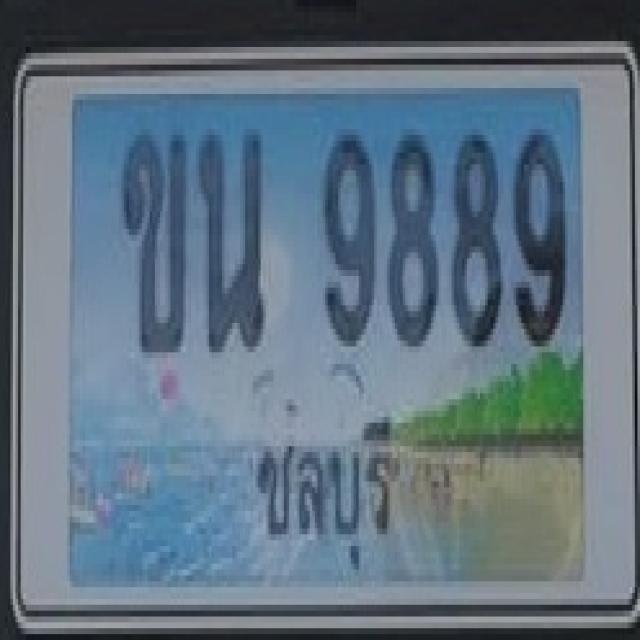license_plate: (10, 41, 640, 634)
